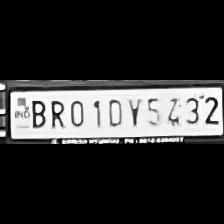0: (65, 96, 87, 128)
1: (88, 96, 104, 128)
2: (200, 92, 220, 124)
3: (180, 94, 200, 125)
4: (163, 94, 181, 125)
5: (142, 95, 162, 127)
B: (27, 96, 47, 128)
D: (102, 95, 125, 127)
R: (46, 97, 66, 129)
Y: (125, 95, 143, 127)
